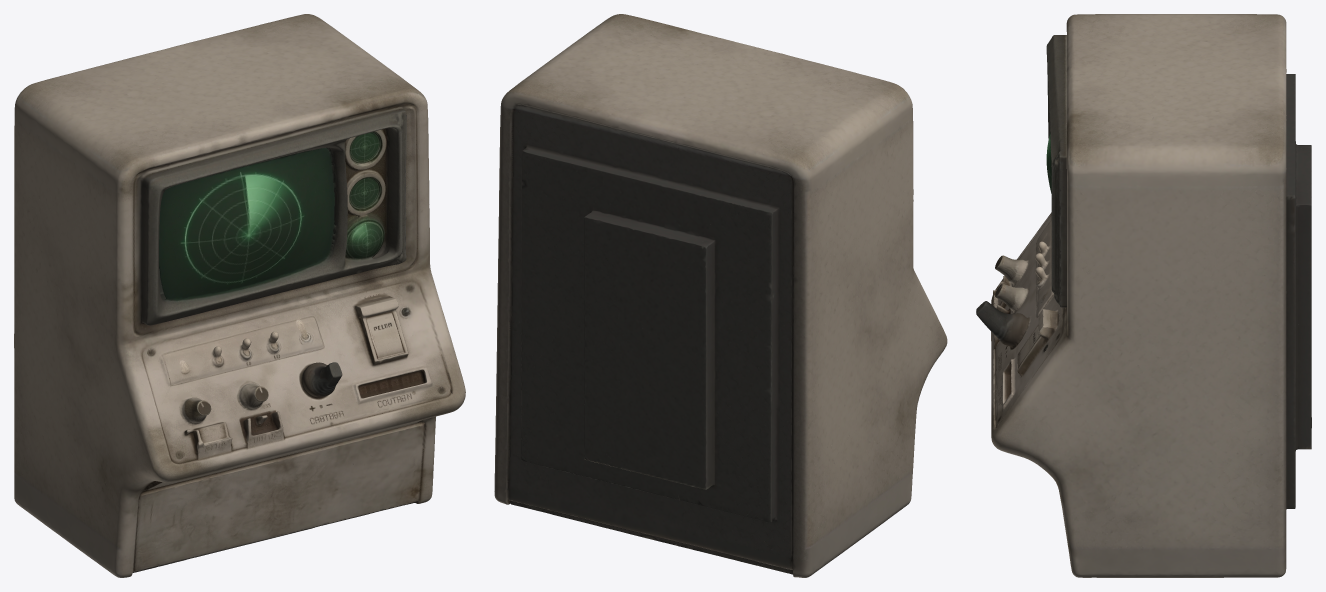
The model's file is maquina-busqueda-señales-meshy.glb.
3 views of the same model, side by side, from view 1: azimuth 30°, elevation 25°; view 2: azimuth 150°, elevation 25°; view 3: azimuth 270°, elevation 25° (orthographic).
Size of the model in its own units: 1.24 by 1.58 by 1.13.
Materials: 1 (1 with a texture image).
